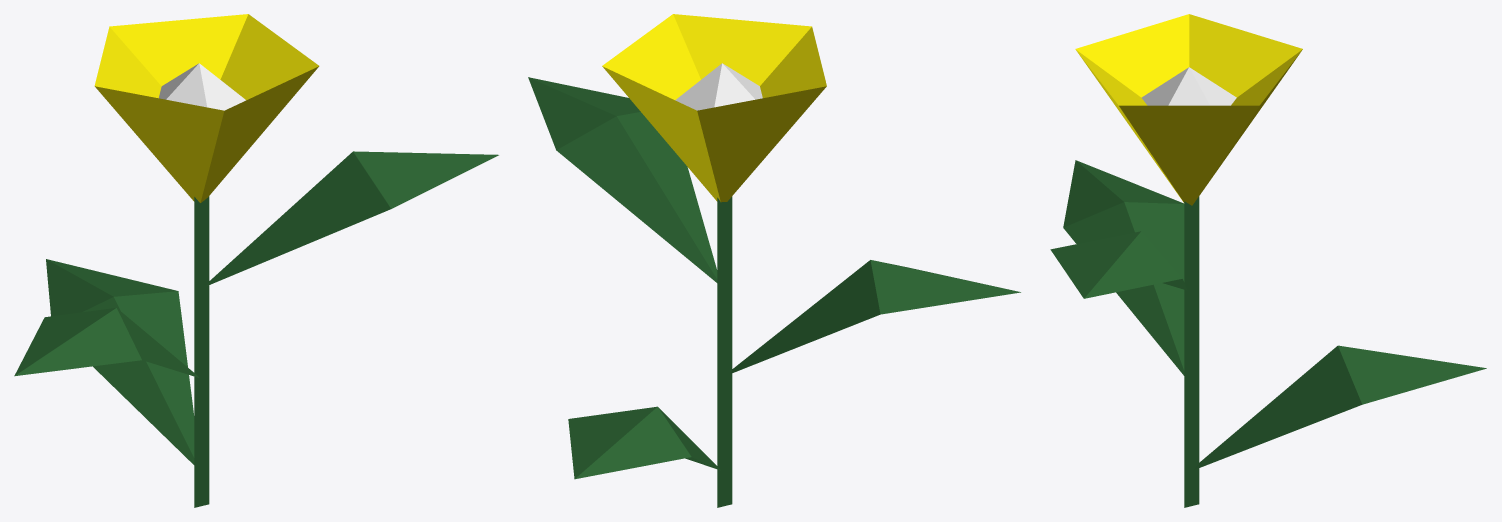
The model's file is TB_Env_Bloom_B.FBX.
3 views of the same model, side by side, from view 1: azimuth 30°, elevation 25°; view 2: azimuth 150°, elevation 25°; view 3: azimuth 270°, elevation 25° (orthographic).
Visible parts, largest first — view 1: TB_Env_Bloom_B; view 2: TB_Env_Bloom_B; view 3: TB_Env_Bloom_B.
Boxes of the visible parts, x1,y1,x2,y2 form: TB_Env_Bloom_B: (14,14,498,507); TB_Env_Bloom_B: (528,14,1020,507); TB_Env_Bloom_B: (1050,14,1486,507).
Size of the model in its own units: 0.88 by 0.7616 by 0.6867.
